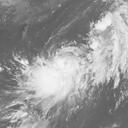cyclone: (17, 45, 88, 111)
